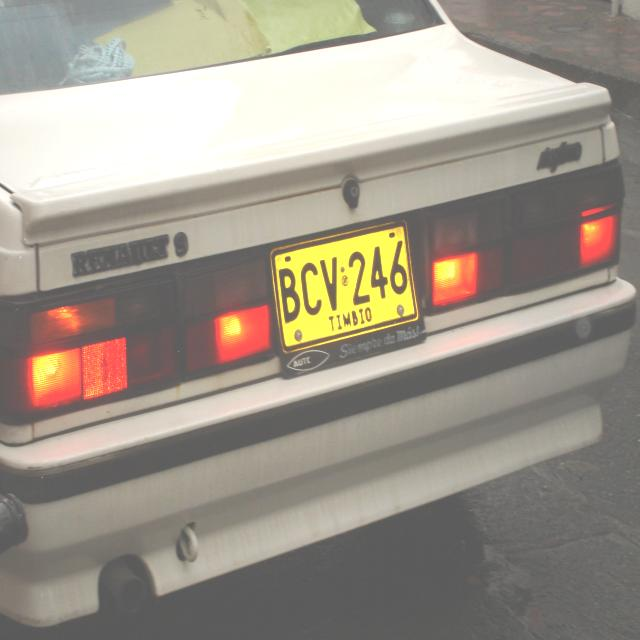placa: (268, 216, 420, 358)
